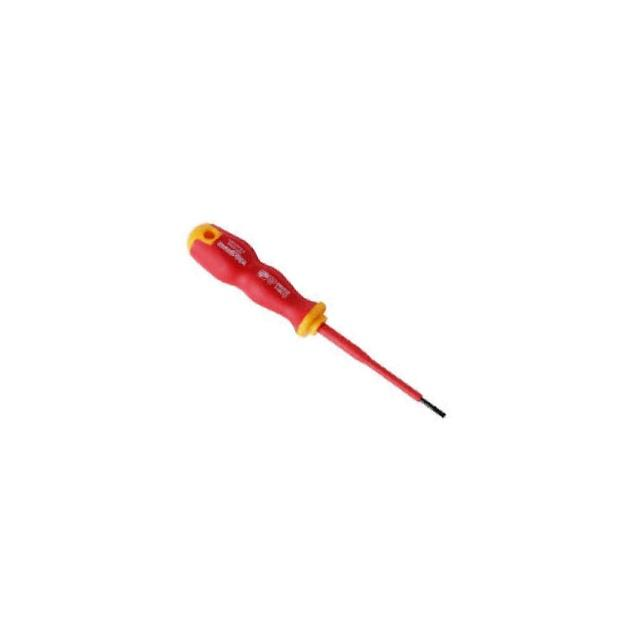screwdriver: (180, 164, 450, 484)
